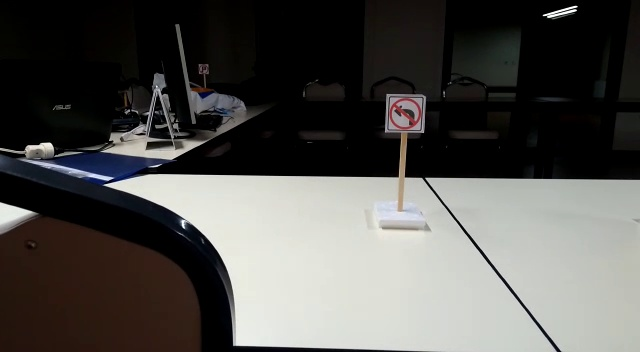sola_donulmez: (386, 96, 425, 131)
